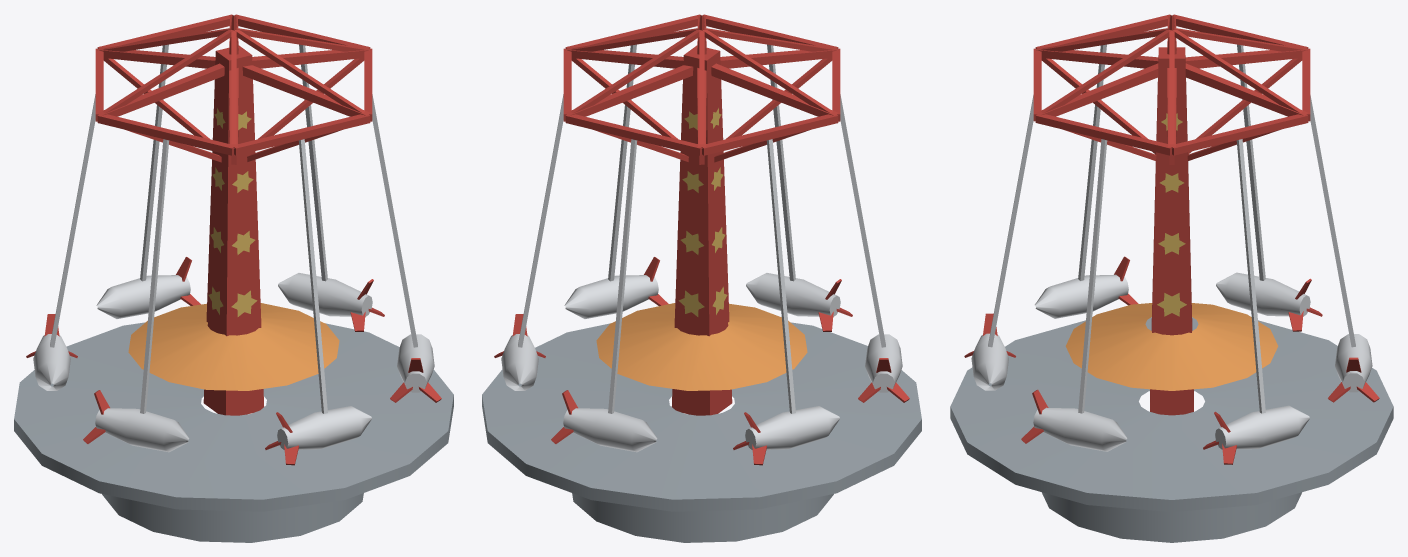
File: detail.glb
The picture shows the model from 3 angles, left to right: view 1: azimuth 30°, elevation 25°; view 2: azimuth 150°, elevation 25°; view 3: azimuth 270°, elevation 25°; orthographic projection.
Visible parts, largest first — view 1: golden-zephyr-disneyland; view 2: golden-zephyr-disneyland; view 3: golden-zephyr-disneyland.
Part boxes in pixels (x1=…): golden-zephyr-disneyland: x1=14, y1=14, x2=453, y2=542; golden-zephyr-disneyland: x1=482, y1=14, x2=921, y2=542; golden-zephyr-disneyland: x1=950, y1=14, x2=1393, y2=542.
Size of the model in its own units: 20 by 23.5 by 20.
